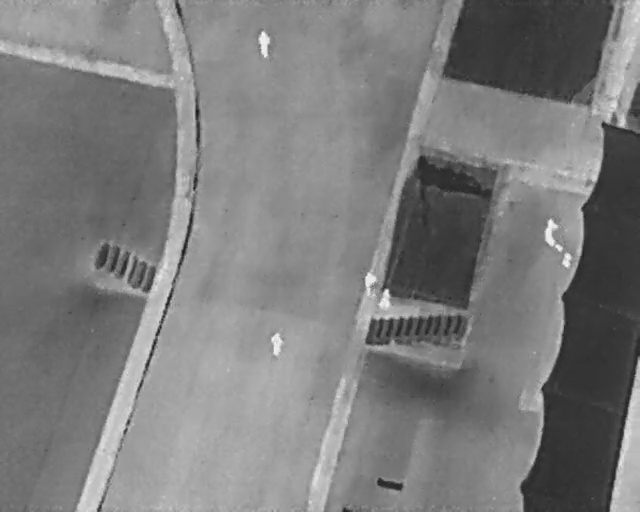Person: (255, 28, 272, 60), (364, 270, 378, 297), (270, 330, 283, 356), (377, 288, 392, 309)
